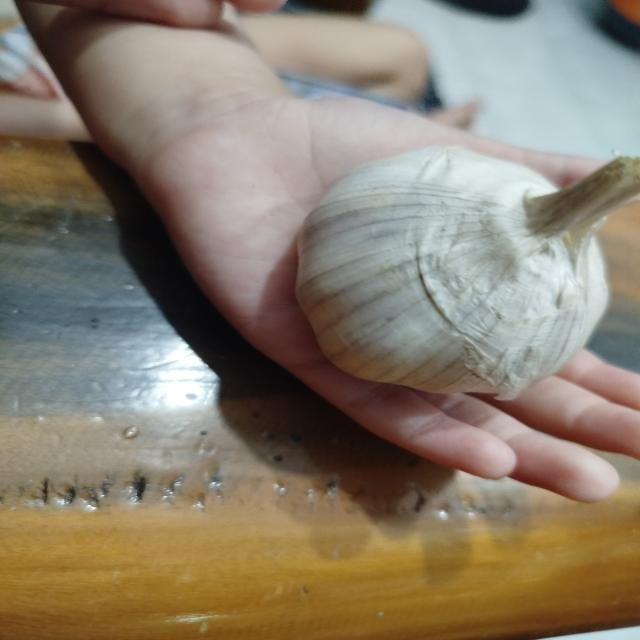garlic: (293, 144, 639, 400)
